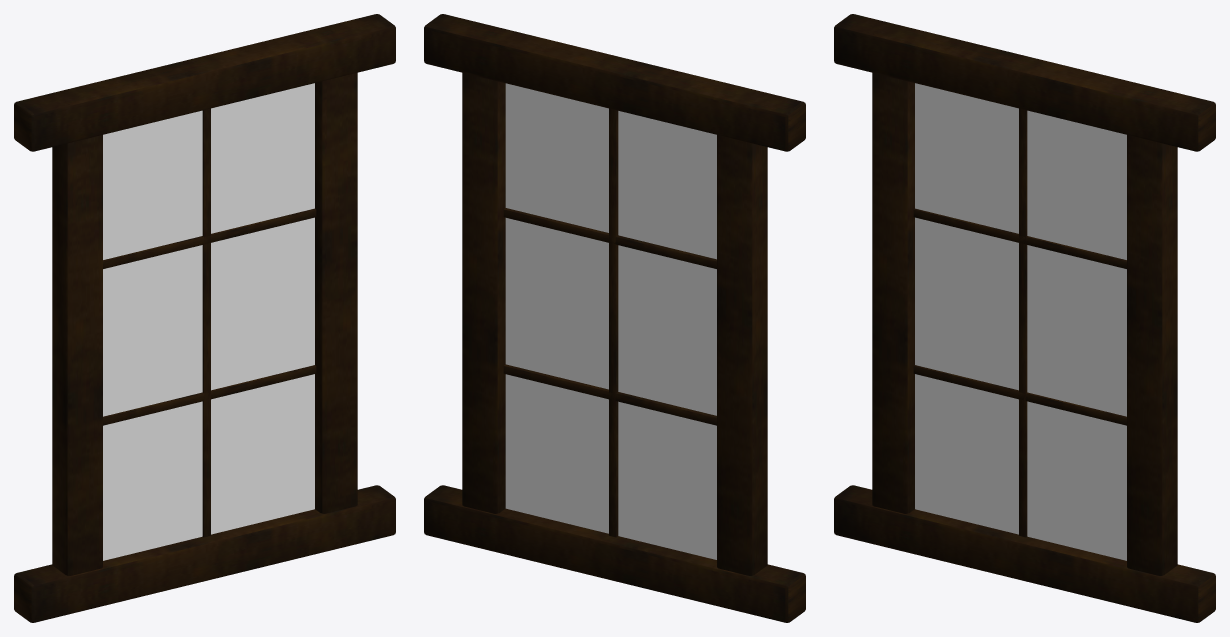
The model's file is Window frameV1.FBX.
3 renders of one model, left to right at view 1: azimuth 30°, elevation 25°; view 2: azimuth 150°, elevation 25°; view 3: azimuth 330°, elevation 25°, orthographic.
Visible parts, largest first — view 1: Window frame; view 2: Window frame; view 3: Window frame.
Part boxes in pixels (box(x1,y1,x2,y2)): Window frame: box(14, 14, 395, 622); Window frame: box(424, 14, 805, 622); Window frame: box(834, 14, 1215, 622).
Bounding box in the file's own units: 97.52 × 130 × 8.61.
2 materials, 1 textured.
